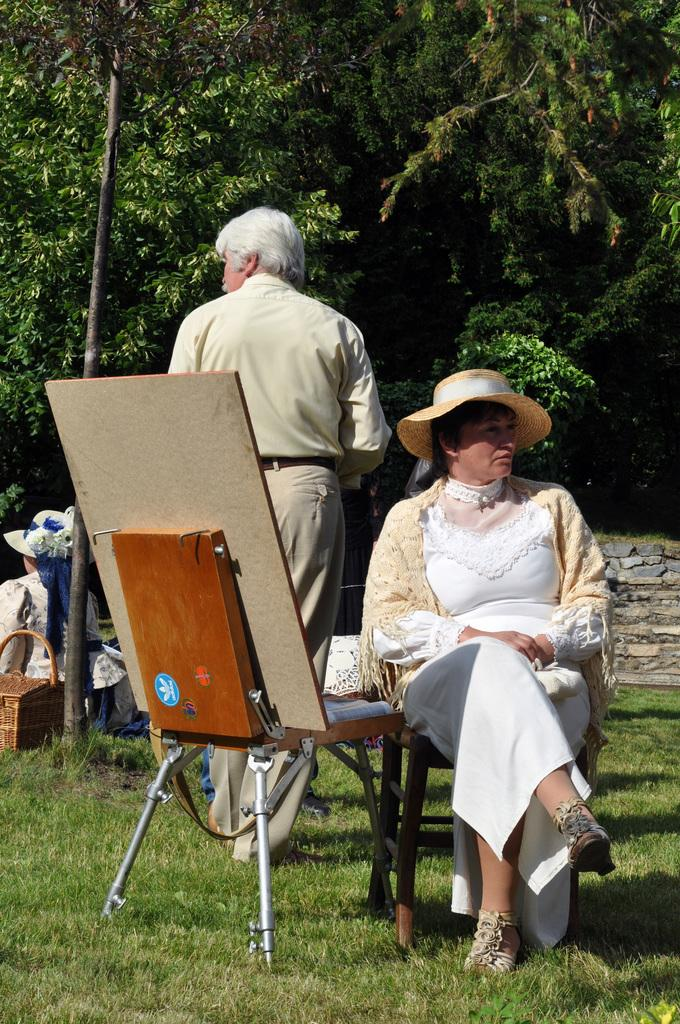Hat: (399, 370, 552, 468)
